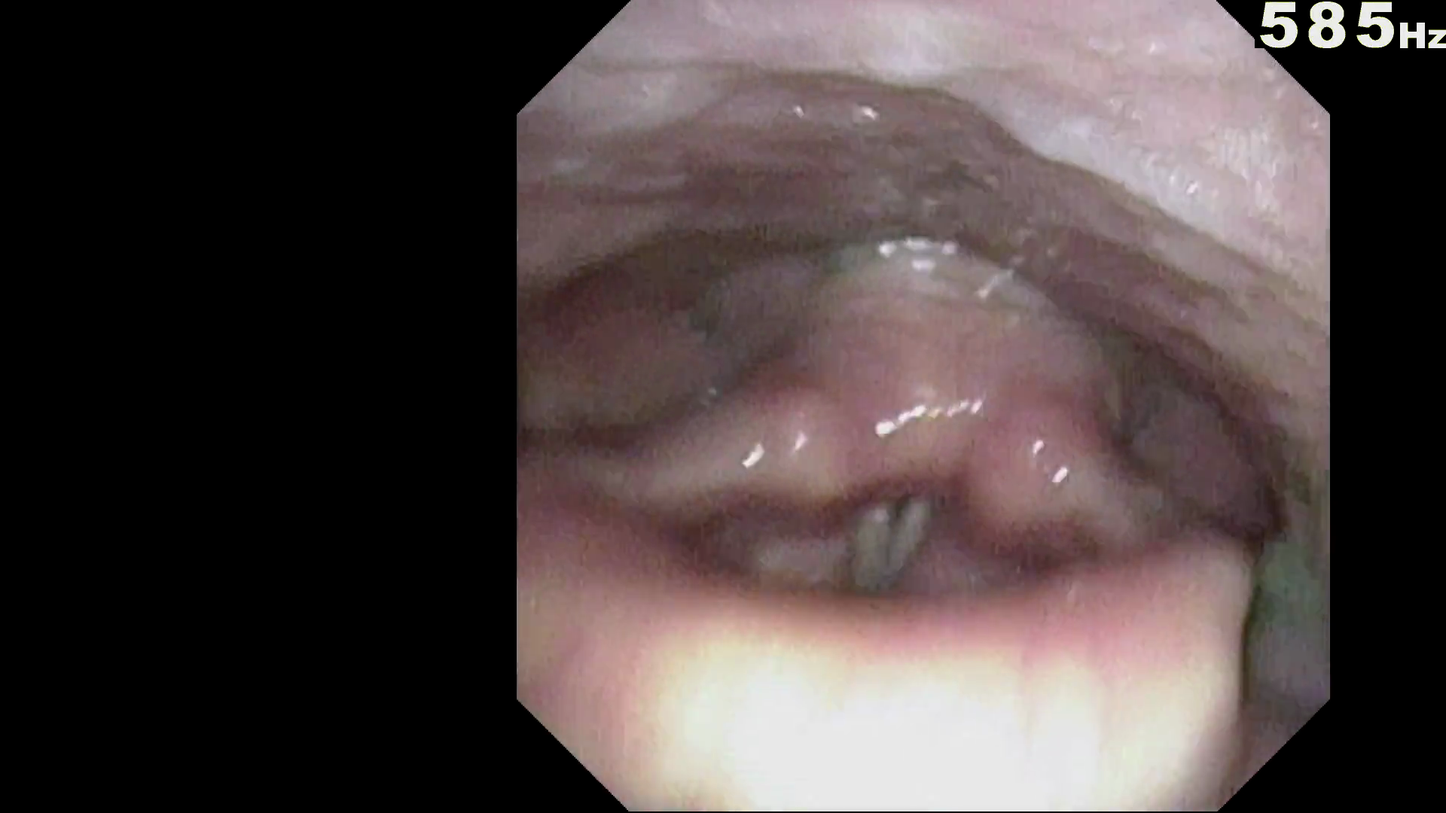epiglottis: (622, 565, 1226, 788)
trachea: (841, 482, 942, 597)
